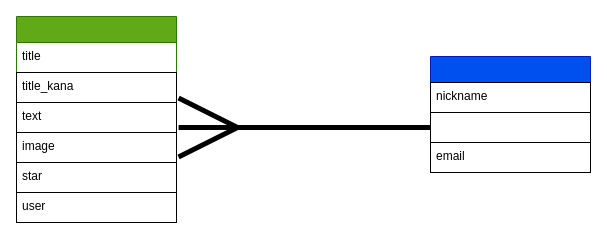
This 607x239 diagram has some shape labels left out. The box of each missing label's shape, as (x1, y1, x2, y2) in pixels:
encrypted_password: (430, 112, 590, 142)
memos: (16, 16, 176, 222)
users: (430, 56, 590, 172)
